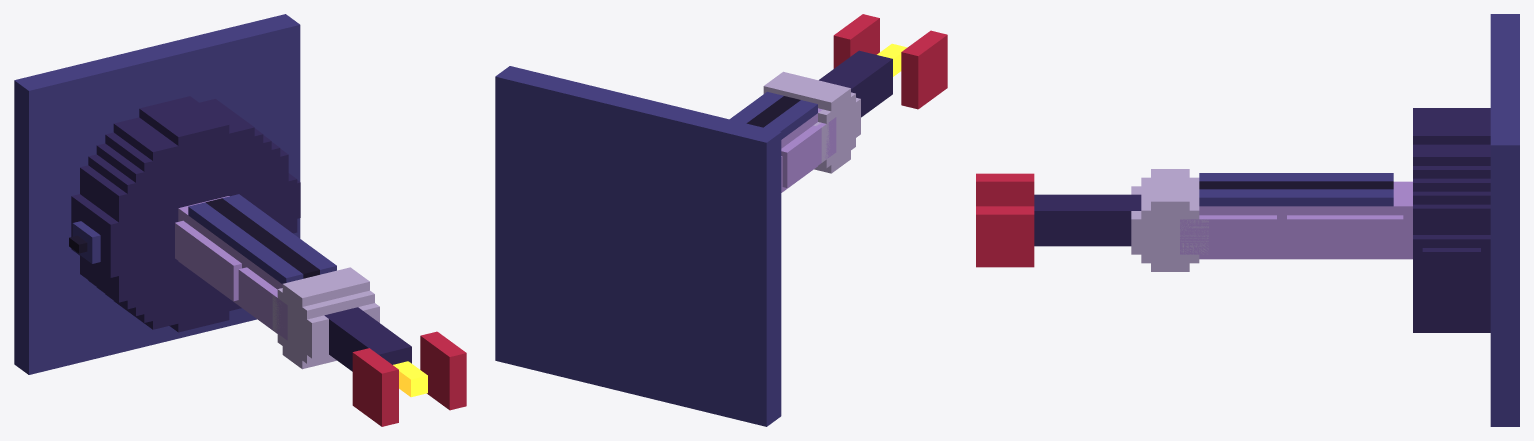
The model's file is salvage-arm.md.glb.
The picture shows the model from 3 angles, left to right: view 1: azimuth 30°, elevation 25°; view 2: azimuth 150°, elevation 25°; view 3: azimuth 270°, elevation 25°; orthographic projection.
Visible parts, largest first — view 1: salvage-arm.md; view 2: salvage-arm.md; view 3: salvage-arm.md.
Part boxes in pixels (bbox=[...]): salvage-arm.md: bbox=[14, 14, 466, 426]; salvage-arm.md: bbox=[495, 14, 947, 426]; salvage-arm.md: bbox=[976, 14, 1519, 426].
Size of the model in its own units: 2 by 2 by 3.5.
